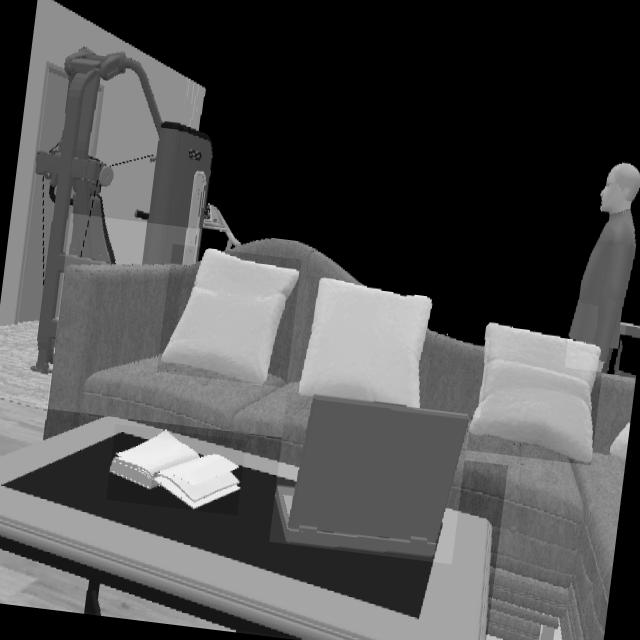book: (109, 431, 240, 510)
laptop: (274, 395, 468, 559)
person: (568, 163, 640, 372)
pillow: (158, 249, 300, 385), (470, 322, 599, 465), (297, 279, 432, 411), (609, 422, 629, 463)
sofa: (43, 237, 363, 467), (449, 373, 635, 640), (418, 331, 485, 415)
table: (0, 416, 494, 640)
